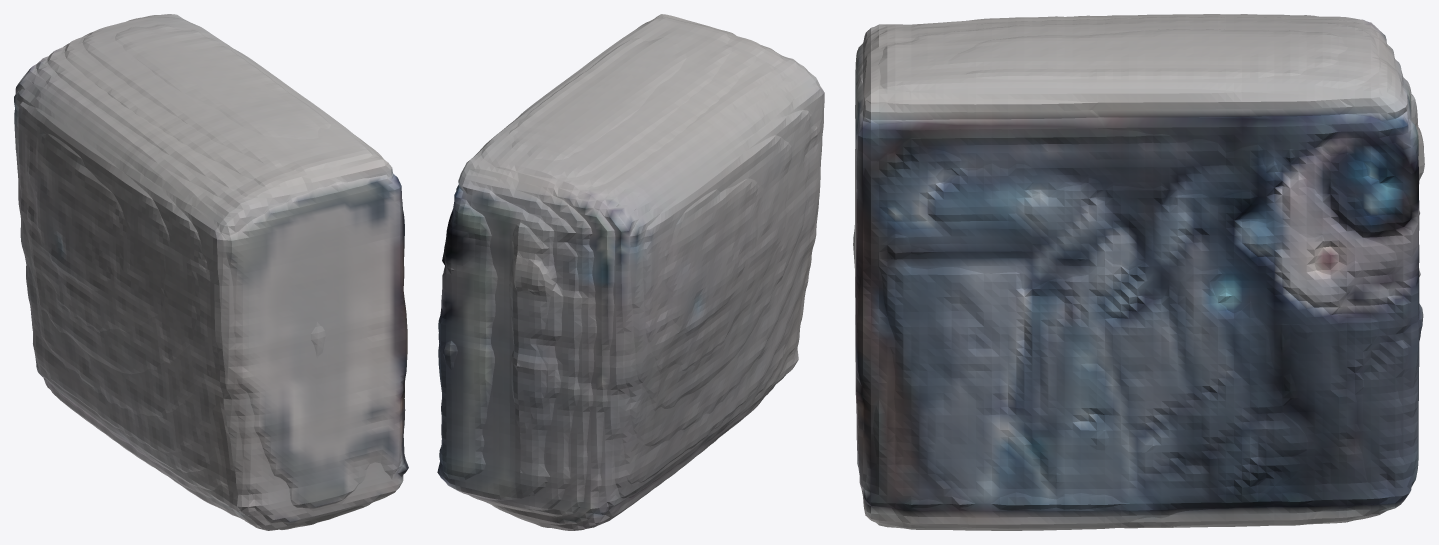
The model's file is worker-bot-carrying.glb.
3 views of the same model, side by side, from view 1: azimuth 30°, elevation 25°; view 2: azimuth 150°, elevation 25°; view 3: azimuth 270°, elevation 25° (orthographic). The views are drawn at different scales.
Parts seen in each view (by area): view 1: world; view 2: world; view 3: world.
Part boxes in pixels (x1,y1,x2,y2): world: [14, 14, 408, 530]; world: [437, 14, 824, 530]; world: [853, 14, 1424, 530].
Bounding box in the file's own units: 0.5236 × 0.871 × 0.9713.
